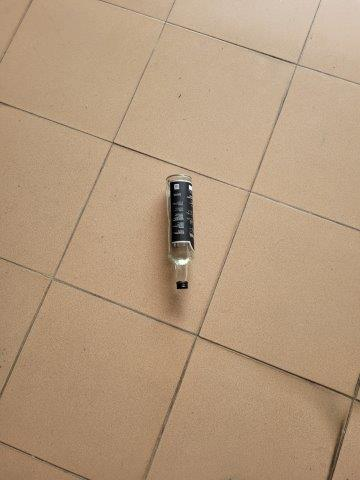botolkaca: (166, 173, 195, 292)
